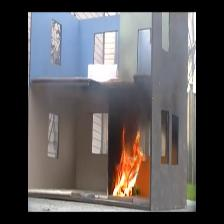fire: (114, 141, 144, 197)
smoke: (113, 89, 144, 118)
